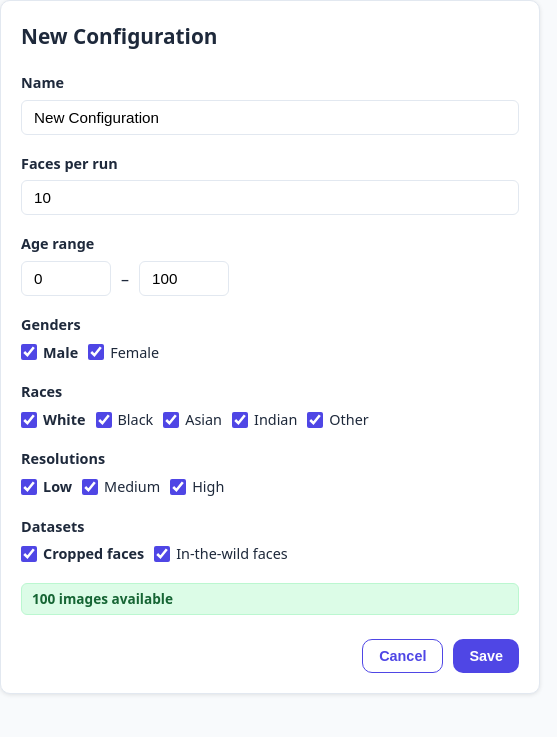
ConfigForm validation › shows error when name is empty
The image size is (557, 737).
Clear the field with placeholder "e.g. Young adults" at (270, 117), box left=21, top=100, right=519, bottom=135
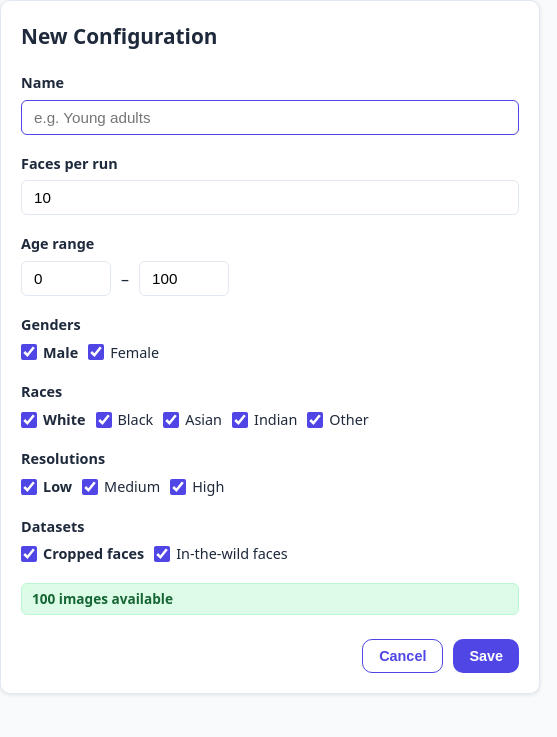
Click the button "Save" at (486, 656), box left=453, top=639, right=519, bottom=673
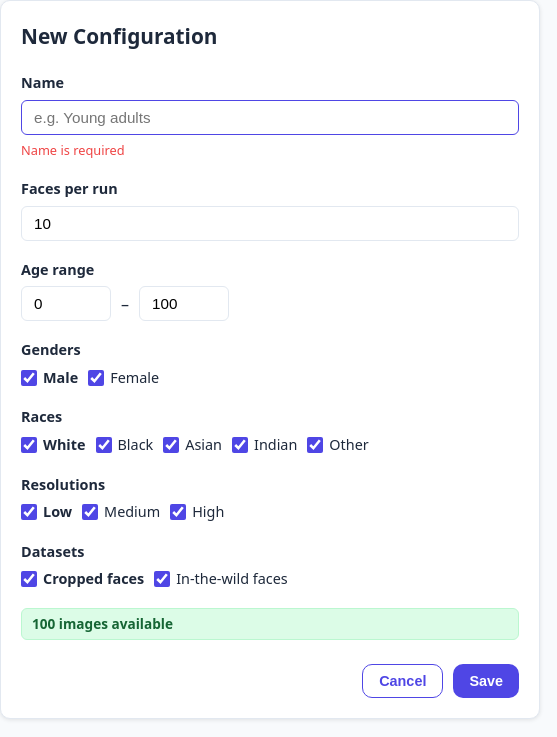
Now the text "Name is required" is shown, box left=21, top=141, right=125, bottom=159
